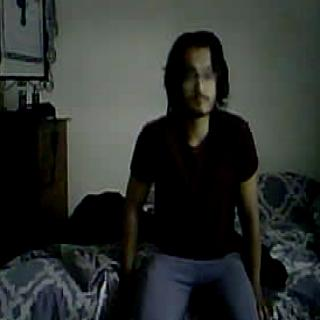Blue Sweatpants: (142, 256, 260, 320)
Maroon T-Shirt: (129, 111, 261, 257)
